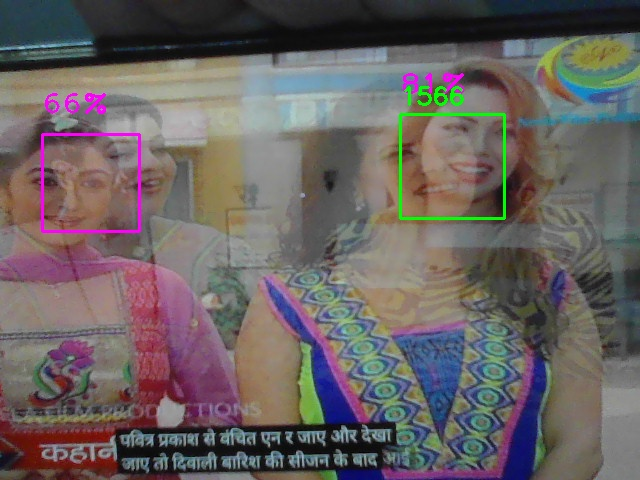fake: (400, 114, 505, 219)
